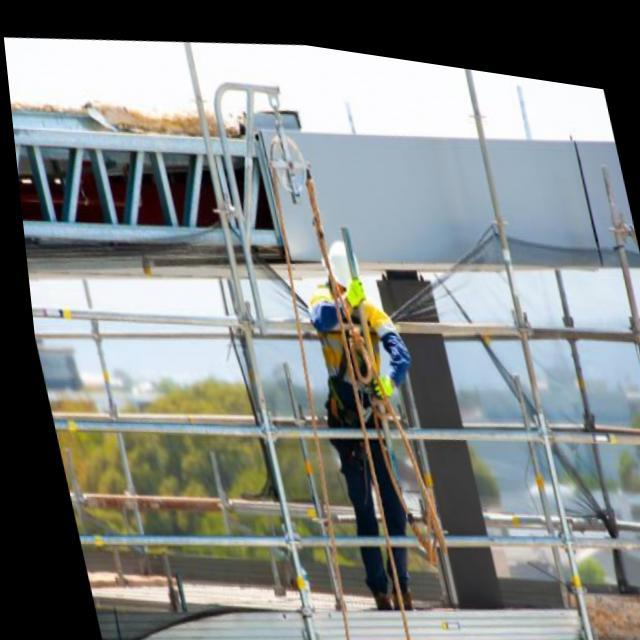belt: (298, 266, 389, 459)
